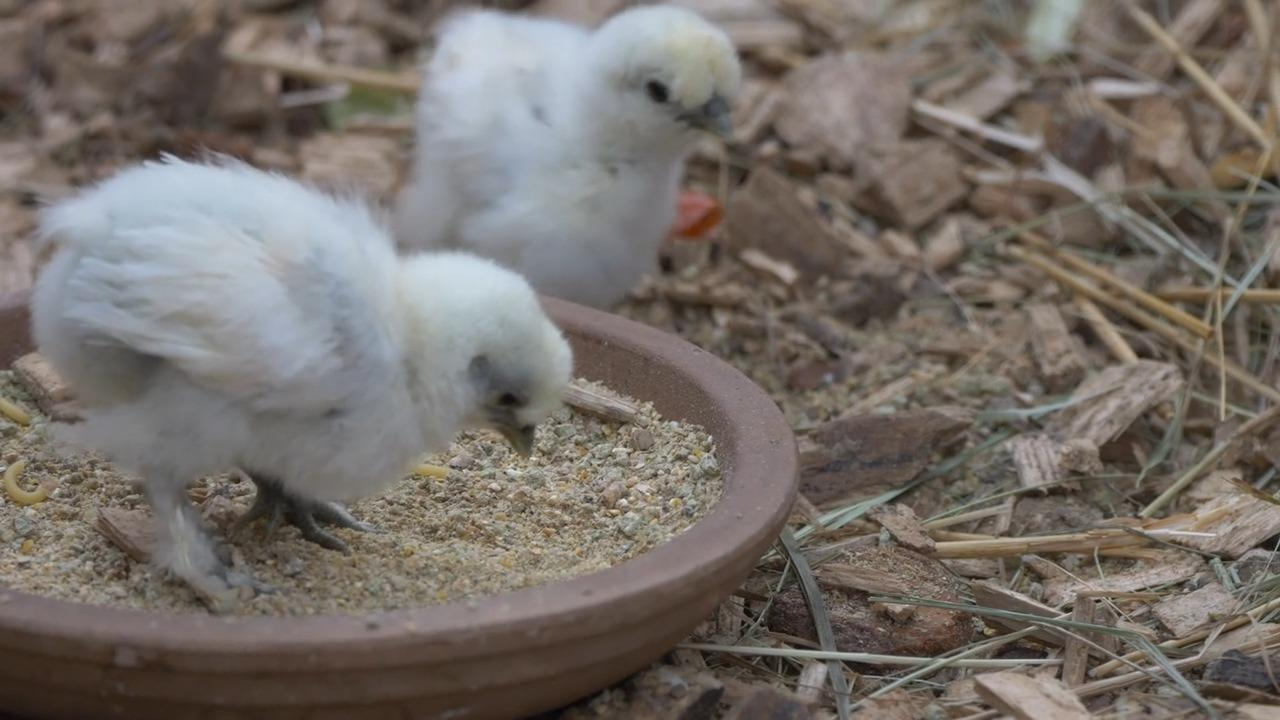Normal: (20, 159, 574, 567), (416, 10, 758, 293)
